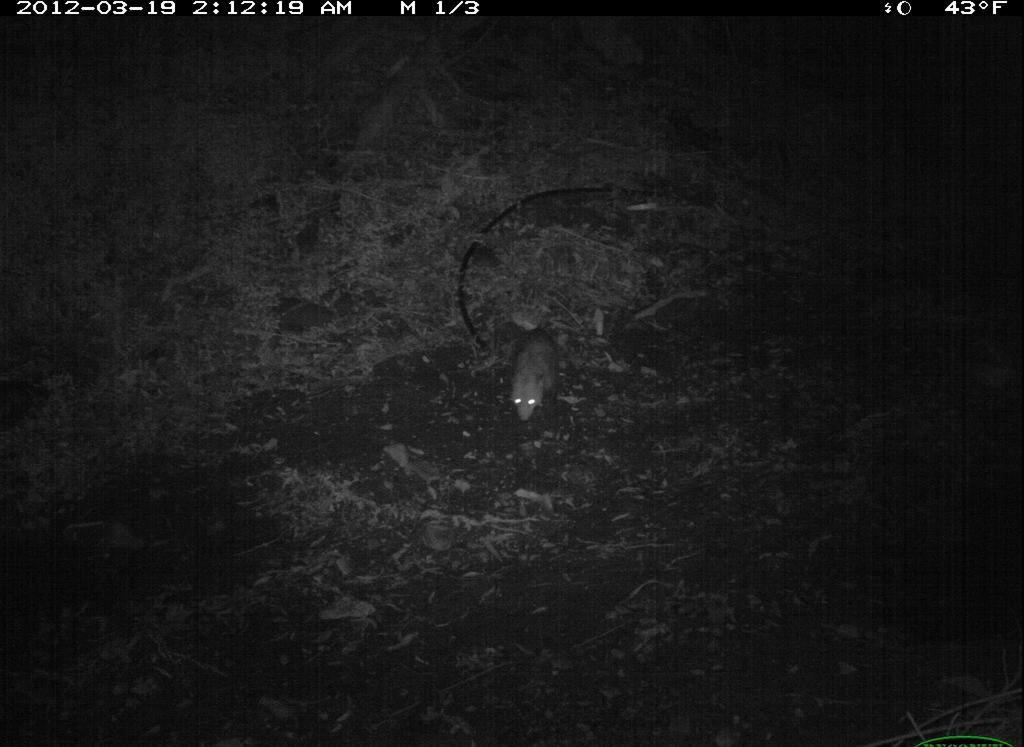opossum: (500, 319, 578, 443)
